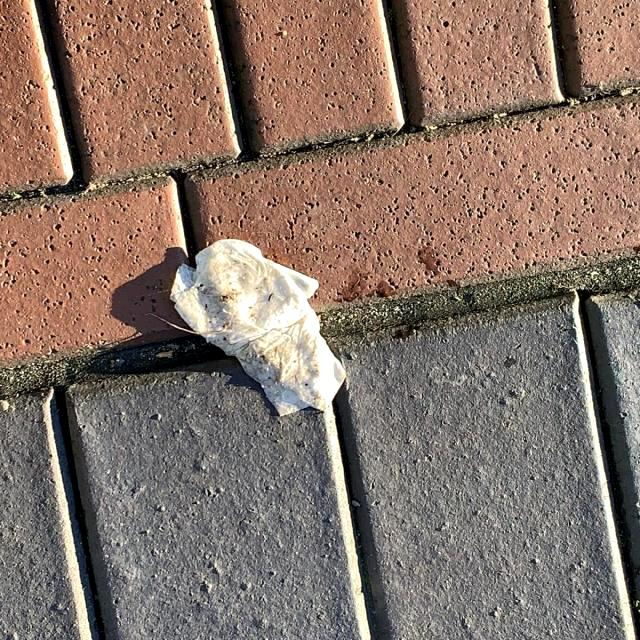Paper: (168, 237, 348, 419)
